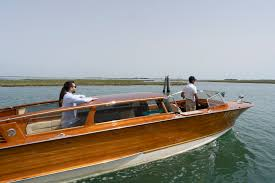boat: (1, 74, 253, 183)
